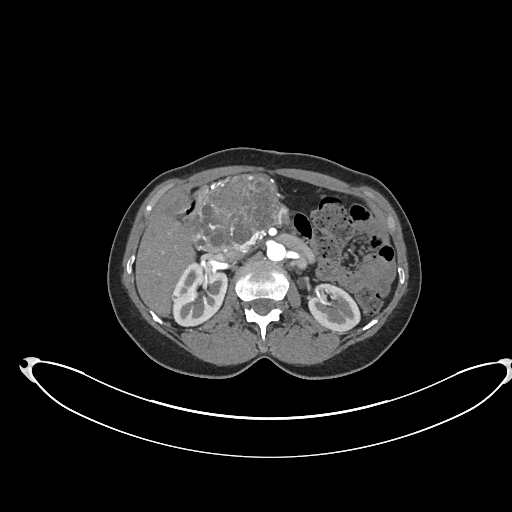Lesion: (169, 293, 178, 301)
